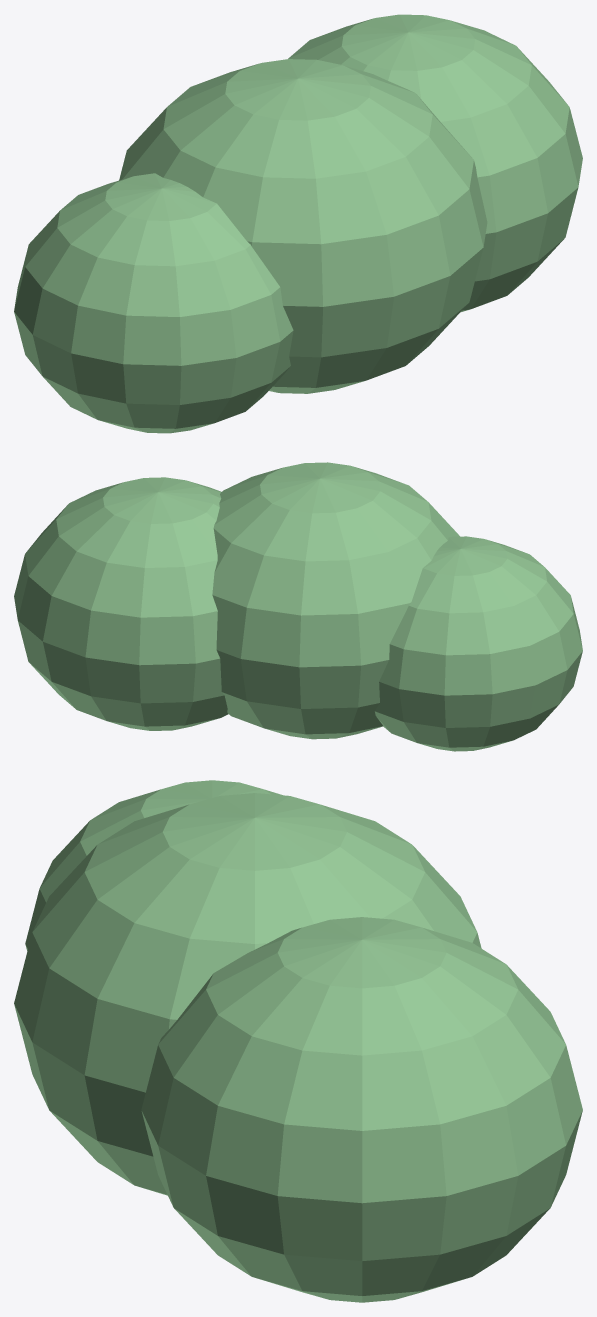
File: Bush.glb
The picture shows the model from 3 angles, top to bottom: view 1: azimuth 30°, elevation 25°; view 2: azimuth 150°, elevation 25°; view 3: azimuth 270°, elevation 25°; orthographic projection. The views are drawn at different scales.
Visible parts, largest first — view 1: Bush_0; view 2: Bush_0; view 3: Bush_0.
Part boxes in pixels (x1,y1,x2,y2): Bush_0: (14, 14, 582, 433); Bush_0: (14, 462, 582, 751); Bush_0: (14, 780, 582, 1302).
Size of the model in its own units: 5.76 by 2.77 by 3.85.
